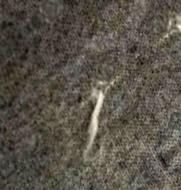snag: (80, 87, 112, 162)
